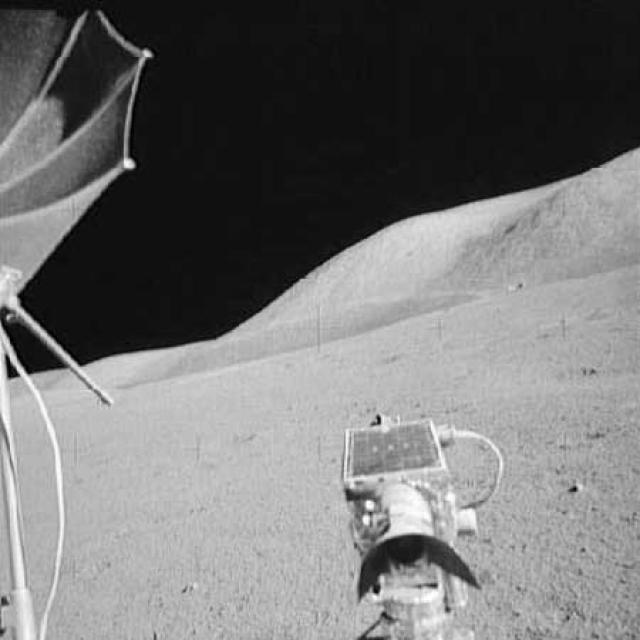artifact: (1, 4, 146, 639), (316, 414, 516, 638)
crater: (34, 290, 505, 393)
